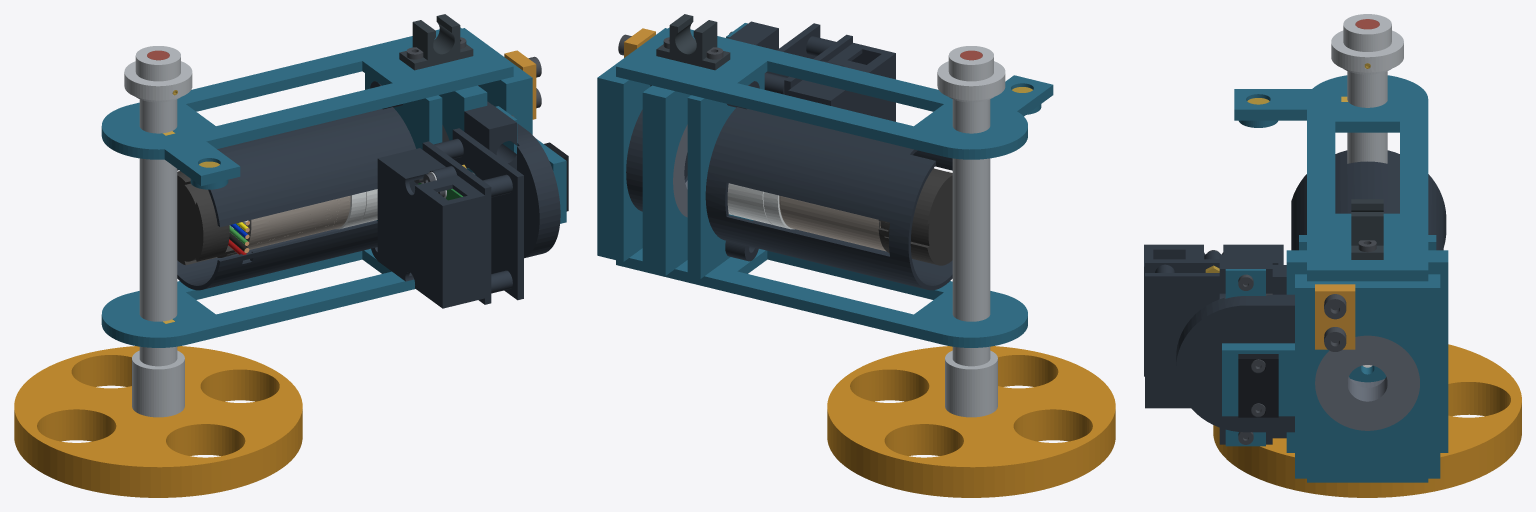
3 views of the same model, side by side, from view 1: azimuth 30°, elevation 25°; view 2: azimuth 150°, elevation 25°; view 3: azimuth 270°, elevation 25° (orthographic). The views are drawn at different scales.
Parts seen in each view (by area): view 1: link; view 2: link; view 3: link.
Boxes of the visible parts, bbox=[...] form: link: bbox=[14, 14, 568, 497]; link: bbox=[597, 14, 1115, 497]; link: bbox=[1144, 14, 1521, 497].
Size of the model in its own units: 0.1492 by 0.0935 by 0.1155.
